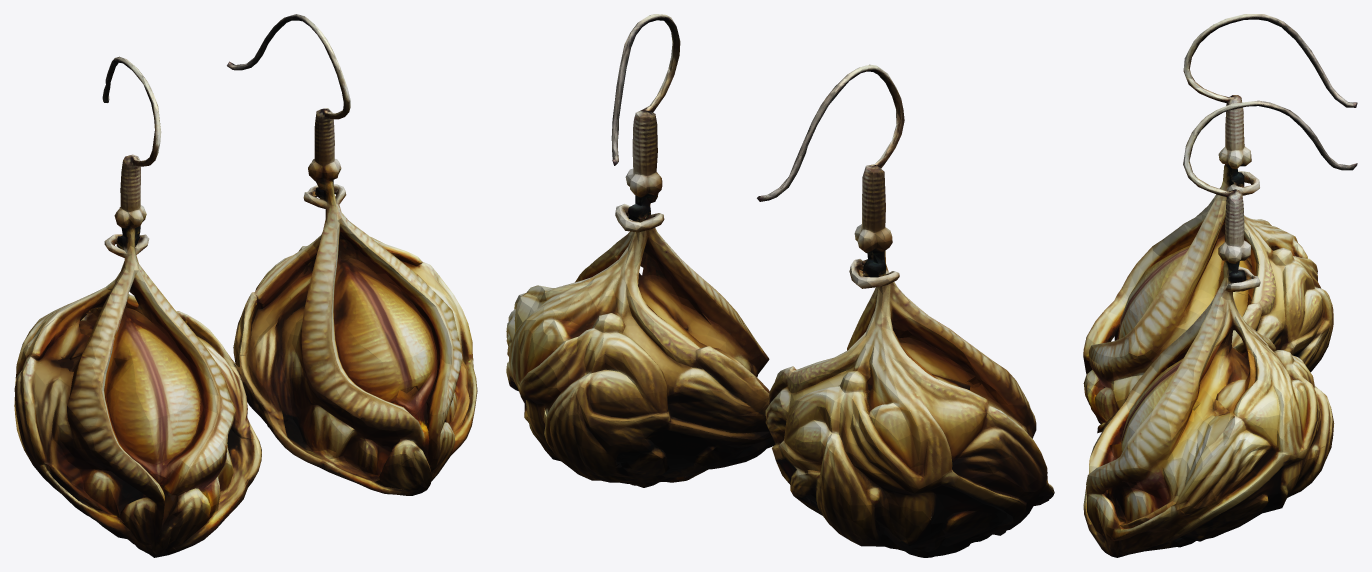
Rendered from natural-seed-earrings-3d.jpeg.glb.
3 renders of one model, left to right at view 1: azimuth 30°, elevation 25°; view 2: azimuth 150°, elevation 25°; view 3: azimuth 270°, elevation 25°, orthographic. The views are drawn at different scales.
Visible parts, largest first — view 1: world; view 2: world; view 3: world.
Part boxes in pixels (x1,y1,x2,y2): world: (14, 14, 477, 557); world: (506, 14, 1054, 557); world: (1083, 14, 1357, 557).
Size of the model in its own units: 0.9975 by 0.9433 by 0.5388.
Materials: 1 (1 with a texture image).
